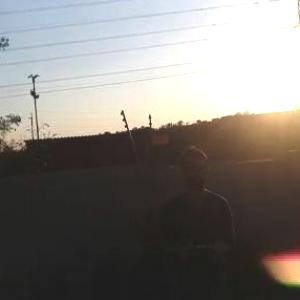follow: (154, 141, 240, 299)
